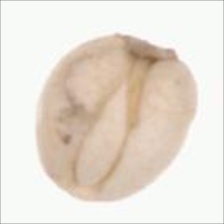L5: (70, 69, 141, 189), (109, 31, 185, 67)
L6: (33, 31, 200, 206)
